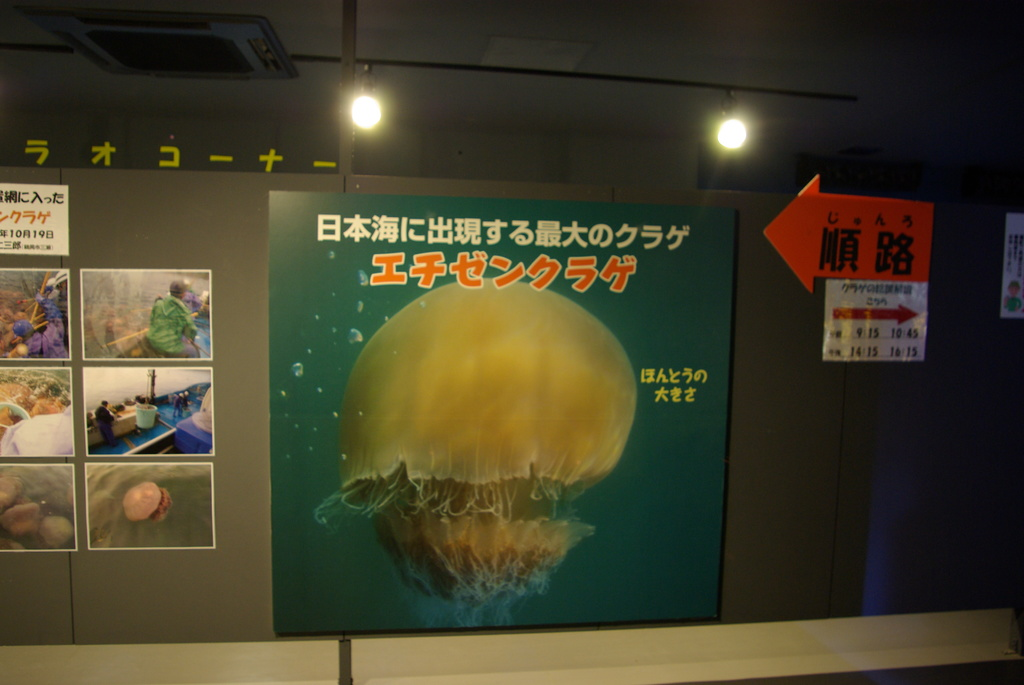Jellyfish: (310, 276, 636, 626)
